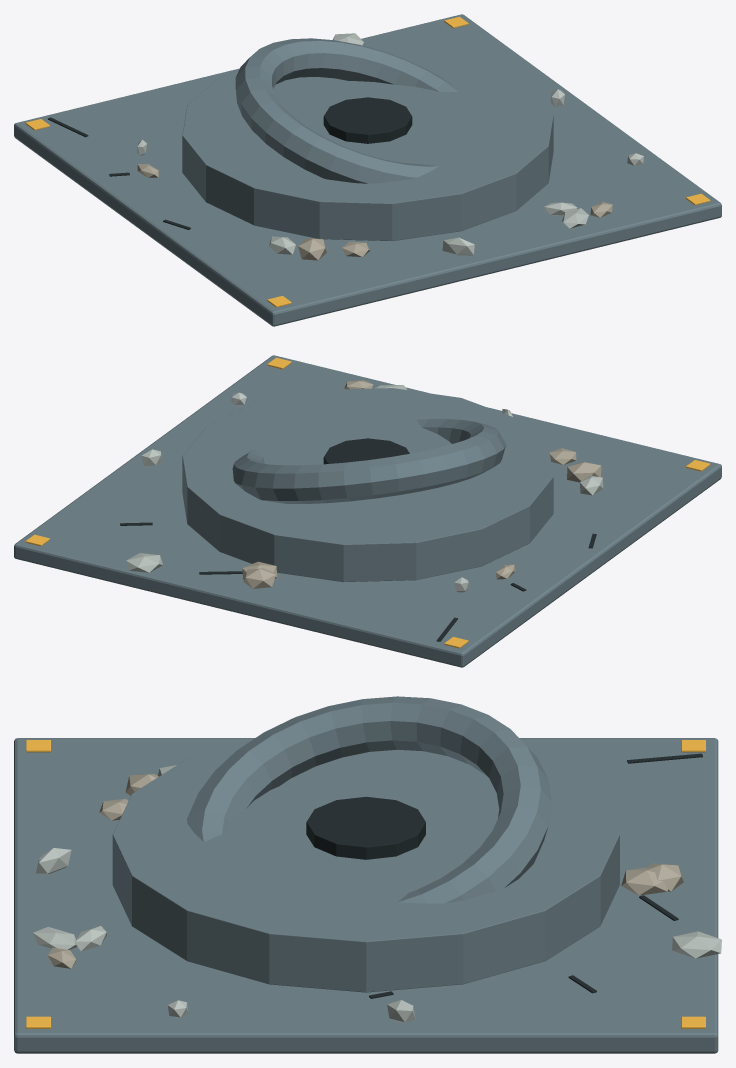
File: utility_reactor_d3.glb
3 views of the same model, one above another, from view 1: azimuth 30°, elevation 25°; view 2: azimuth 150°, elevation 25°; view 3: azimuth 270°, elevation 25° (orthographic). The views are drawn at different scales.
Visible parts, largest first — view 1: Foundation.019, Reactor plinth.003, Collapsed containment ring, Inert reactor core, Bounded fractured debris.121; view 2: Foundation.019, Reactor plinth.003, Collapsed containment ring, Inert reactor core, Bounded fractured debris.117, Bounded fractured debris.118, Bounded fractured debris.121; view 3: Foundation.019, Reactor plinth.003, Collapsed containment ring, Inert reactor core, Bounded fractured debris.117, Bounded fractured debris.124, Bounded fractured debris.114, Bounded fractured debris.116, Bounded fractured debris.118.
Part boxes in pixels (x1=…): Foundation.019: x1=14, y1=14, x2=721, y2=326; Reactor plinth.003: x1=182, y1=47, x2=553, y2=241; Collapsed containment ring: x1=235, y1=38, x2=458, y2=183; Inert reactor core: x1=323, y1=97, x2=412, y2=143; Bounded fractured debris.121: x1=298, y1=238, x2=326, y2=260; Foundation.019: x1=14, y1=355, x2=721, y2=667; Reactor plinth.003: x1=182, y1=388, x2=553, y2=582; Collapsed containment ring: x1=232, y1=419, x2=505, y2=503; Inert reactor core: x1=323, y1=438, x2=409, y2=464; Bounded fractured debris.117: x1=126, y1=553, x2=162, y2=572; Bounded fractured debris.118: x1=243, y1=568, x2=275, y2=588; Bounded fractured debris.121: x1=567, y1=461, x2=601, y2=482; Foundation.019: x1=14, y1=738, x2=718, y2=1053; Reactor plinth.003: x1=112, y1=741, x2=619, y2=992; Collapsed containment ring: x1=187, y1=696, x2=551, y2=903; Inert reactor core: x1=306, y1=796, x2=425, y2=859; Bounded fractured debris.117: x1=672, y1=931, x2=721, y2=958; Bounded fractured debris.124: x1=621, y1=867, x2=667, y2=895; Bounded fractured debris.114: x1=33, y1=927, x2=76, y2=949; Bounded fractured debris.116: x1=36, y1=848, x2=71, y2=873; Bounded fractured debris.118: x1=646, y1=863, x2=683, y2=891.
Size of the model in its own units: 10 by 2.28 by 10.05.
